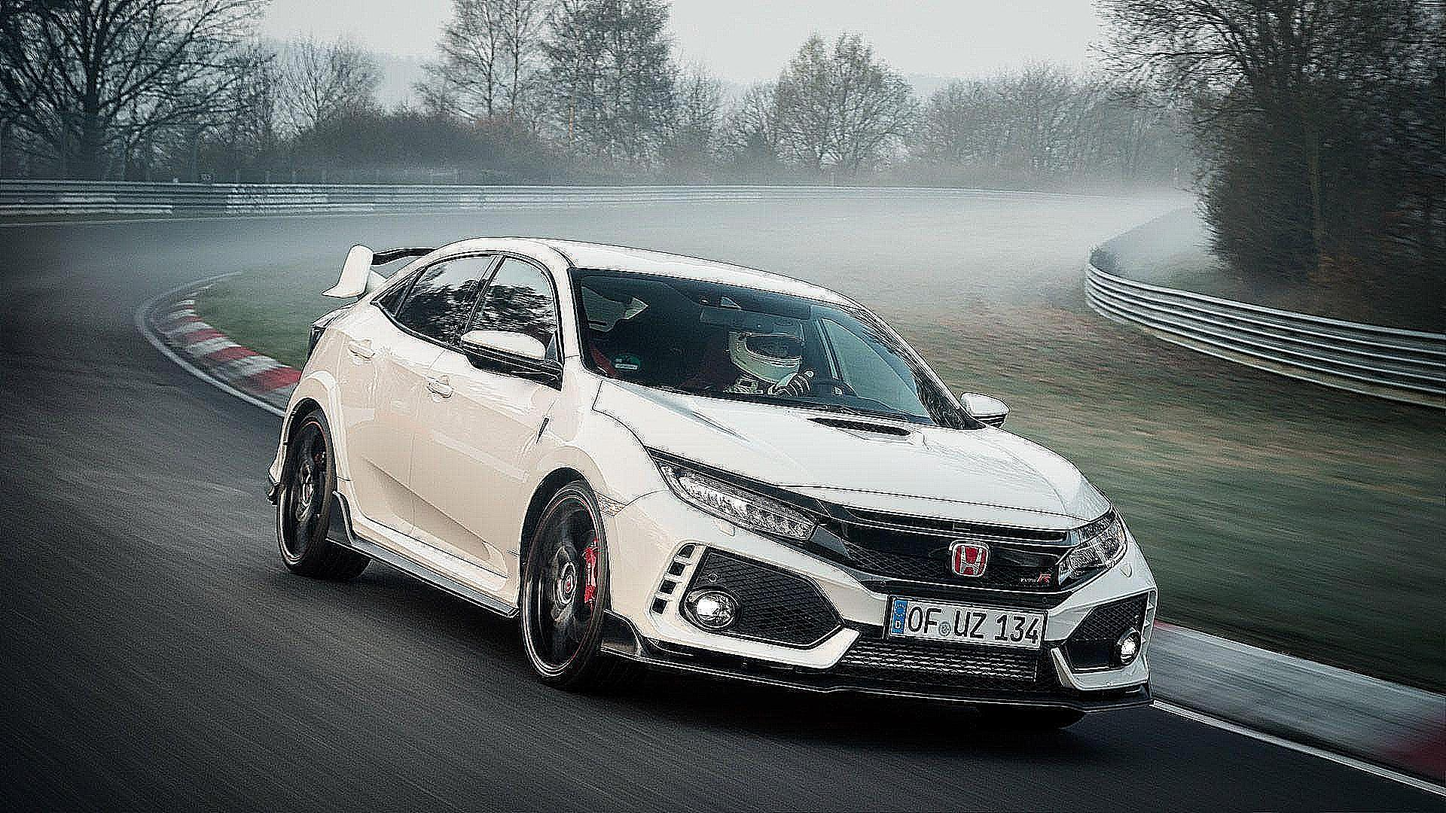Car hood: (589, 374, 1110, 533)
Driver-s door - -F-R-: (403, 237, 587, 602)
Fender - -F-R-: (495, 339, 647, 579)
Fender - -R-R-: (260, 286, 377, 491)
Front bumper: (598, 483, 1163, 725)
Headlight - -L-: (1055, 512, 1131, 599)
Headlight - -R-: (644, 444, 858, 566)
Passenger-s door - -R-R-: (314, 230, 498, 567)
Side bumper - -R-: (310, 477, 524, 630)
Side mirror - -L-: (950, 388, 1005, 437)
Side mirror - -R-: (460, 319, 562, 392)
